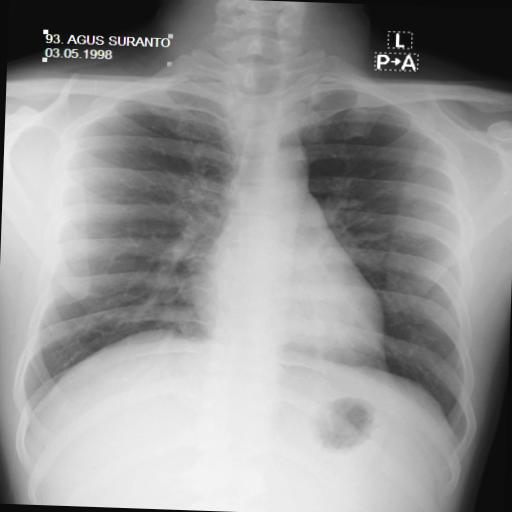normal: (14, 50, 487, 456)
